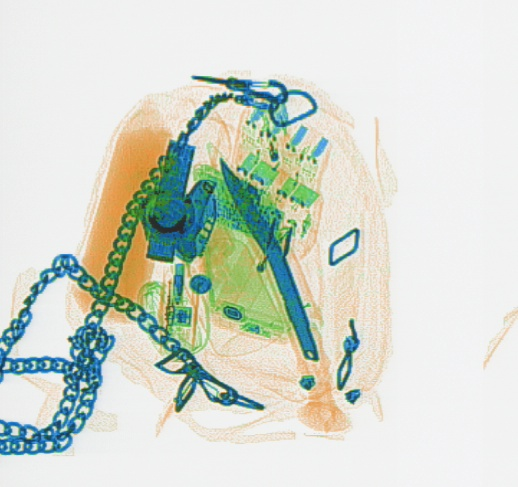knife: (206, 139, 348, 432), (170, 178, 216, 261)
